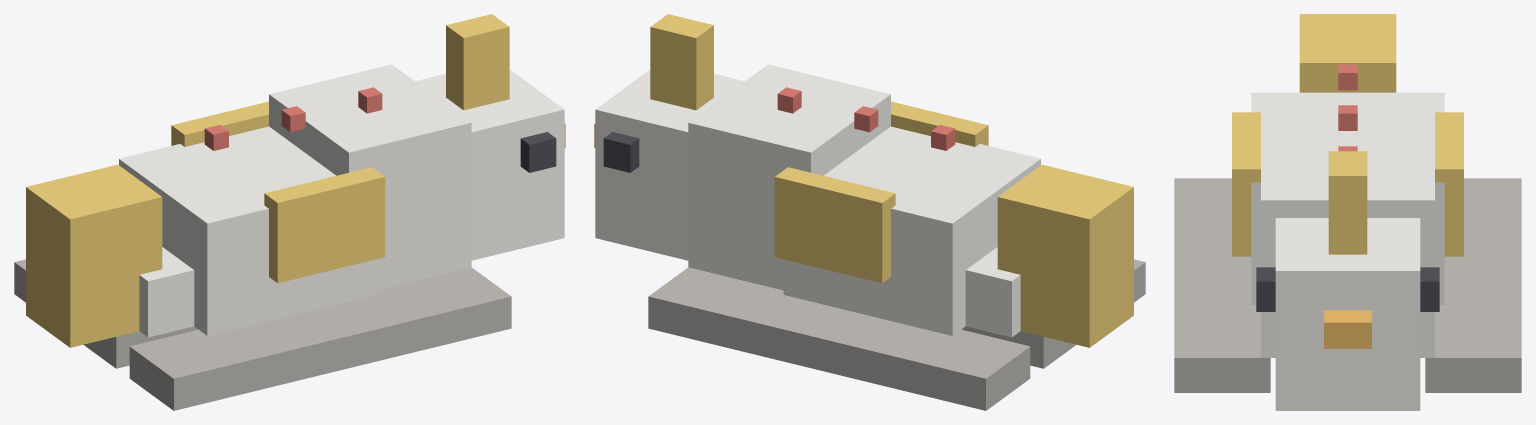
Rendered from 36-Fauna_gallina.glb.
The picture shows the model from 3 angles, left to right: view 1: azimuth 30°, elevation 25°; view 2: azimuth 150°, elevation 25°; view 3: azimuth 270°, elevation 25°; orthographic projection. The views are drawn at different scales.
Parts seen in each view (by area): view 1: SM_Gallina_Cuerpo_NOFUNDIR, SM_Gallina_Apendices_NOFUNDIR, SM_Gallina_Rodela_NOFUNDIR, SM_Gallina_Cabeza_NOFUNDIR, SM_Gallina_Ojo_1, SM_Gallina_Pluma_3, SM_Gallina_Pluma_1, SM_Gallina_Pluma_2; view 2: SM_Gallina_Cuerpo_NOFUNDIR, SM_Gallina_Apendices_NOFUNDIR, SM_Gallina_Rodela_NOFUNDIR, SM_Gallina_Cabeza_NOFUNDIR, SM_Gallina_Ojo_2, SM_Gallina_Pluma_3, SM_Gallina_Pluma_1, SM_Gallina_Pluma_2; view 3: SM_Gallina_Rodela_NOFUNDIR, SM_Gallina_Cabeza_NOFUNDIR, SM_Gallina_Cuerpo_NOFUNDIR, SM_Gallina_Apendices_NOFUNDIR, SM_Gallina_Pico_1, SM_Gallina_Ojo_1, SM_Gallina_Ojo_2, SM_Gallina_Pluma_1, SM_Gallina_Pluma_2.
Part boxes in pixels (x1,y1,x2,y2): SM_Gallina_Cuerpo_NOFUNDIR: (119,64,471,337); SM_Gallina_Apendices_NOFUNDIR: (26,14,509,347); SM_Gallina_Rodela_NOFUNDIR: (14,259,511,410); SM_Gallina_Cabeza_NOFUNDIR: (415,69,564,260); SM_Gallina_Ojo_1: (520,132,556,172); SM_Gallina_Pluma_3: (358,87,382,113); SM_Gallina_Pluma_1: (204,125,228,150); SM_Gallina_Pluma_2: (281,106,305,132); SM_Gallina_Cuerpo_NOFUNDIR: (688,64,1040,337); SM_Gallina_Apendices_NOFUNDIR: (650,14,1133,347); SM_Gallina_Rodela_NOFUNDIR: (648,259,1145,410); SM_Gallina_Cabeza_NOFUNDIR: (595,69,744,260); SM_Gallina_Ojo_2: (603,132,639,172); SM_Gallina_Pluma_3: (777,87,801,113); SM_Gallina_Pluma_1: (931,125,955,150); SM_Gallina_Pluma_2: (854,106,878,132); SM_Gallina_Rodela_NOFUNDIR: (1174,178,1521,392); SM_Gallina_Cabeza_NOFUNDIR: (1275,218,1420,410); SM_Gallina_Cuerpo_NOFUNDIR: (1251,92,1444,357); SM_Gallina_Apendices_NOFUNDIR: (1232,14,1463,256); SM_Gallina_Pico_1: (1324,310,1371,348); SM_Gallina_Ojo_1: (1256,267,1275,311); SM_Gallina_Ojo_2: (1420,267,1439,311); SM_Gallina_Pluma_1: (1338,64,1357,90); SM_Gallina_Pluma_2: (1338,105,1357,130).
Size of the model in its own units: 0.66 by 0.29 by 0.36.
